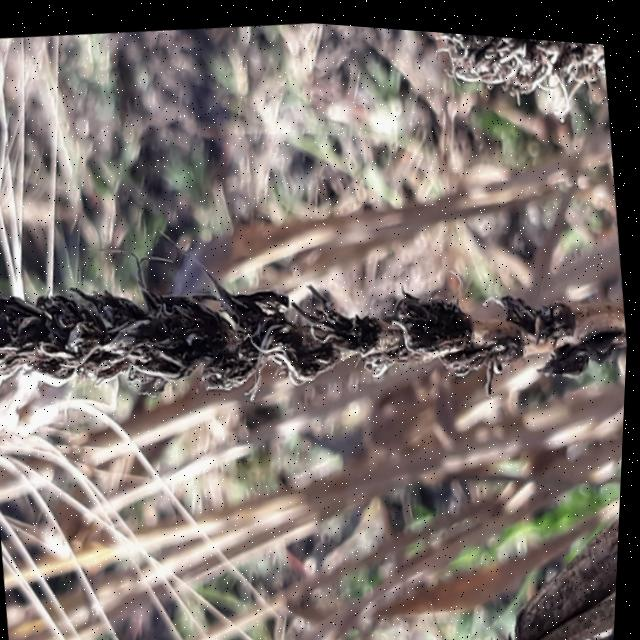loose_charred: (0, 172, 634, 476), (444, 455, 625, 640), (415, 24, 610, 117)
